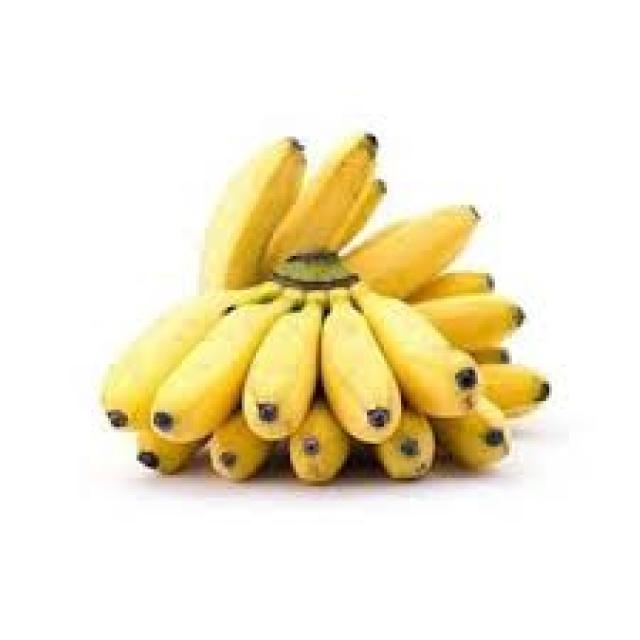banana: (100, 128, 549, 484)
